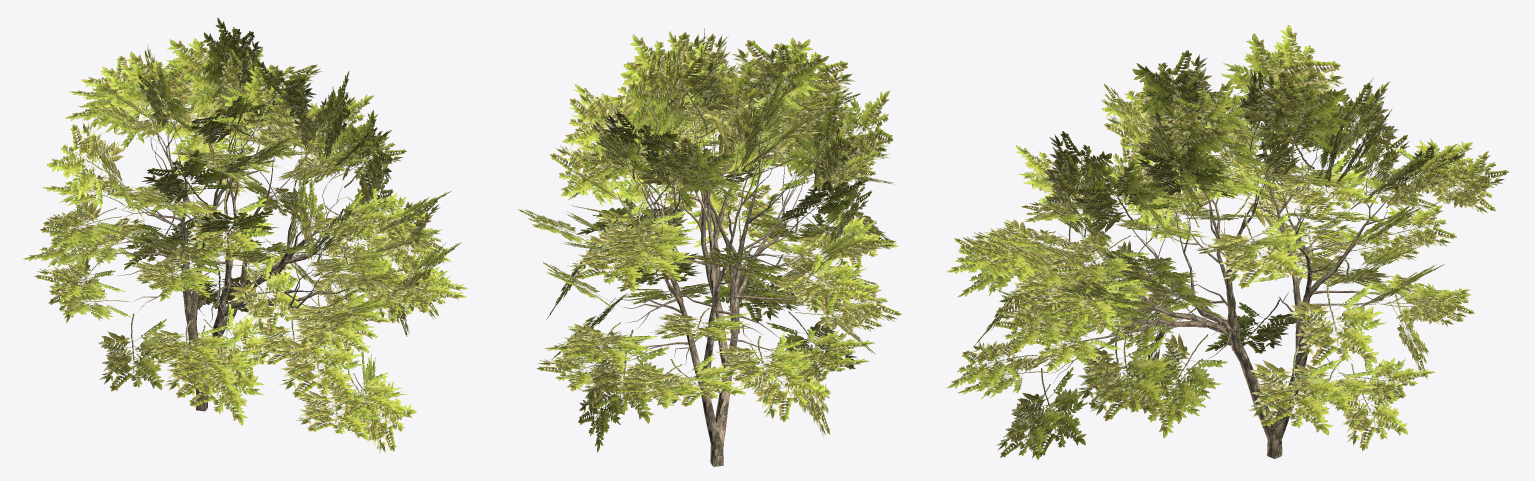
Rendered from ArvoreLarga.fbx.
3 views of the same model, side by side, from view 1: azimuth 30°, elevation 25°; view 2: azimuth 150°, elevation 25°; view 3: azimuth 270°, elevation 25° (orthographic). The views are drawn at different scales.
Visible parts, largest first — view 1: Folhas1_LOD0, Arvore1_LOD0; view 2: Folhas1_LOD0, Arvore1_LOD0; view 3: Folhas1_LOD0, Arvore1_LOD0.
Boxes of the visible parts, box(x1,y1,x2,y2) form: Folhas1_LOD0: box(22, 17, 467, 453); Arvore1_LOD0: box(109, 106, 385, 411); Folhas1_LOD0: box(518, 28, 901, 452); Arvore1_LOD0: box(615, 122, 813, 466); Folhas1_LOD0: box(947, 24, 1508, 459); Arvore1_LOD0: box(1038, 123, 1419, 458).
Size of what is drawn, in the model's own units: 869 by 933 by 1167.
